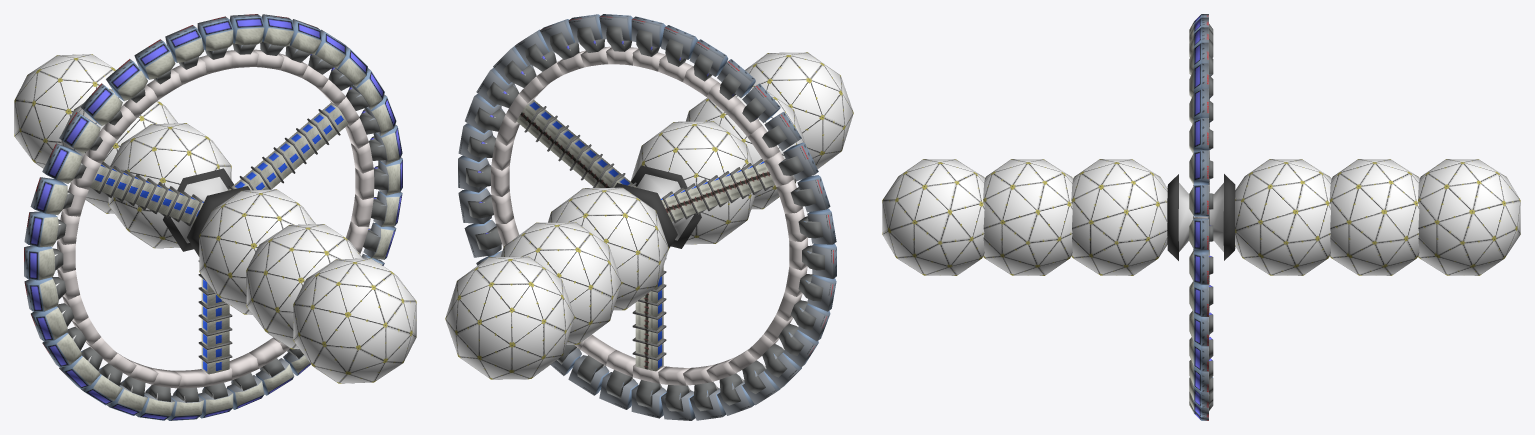
File: spacestation.fbx
The picture shows the model from 3 angles, left to right: view 1: azimuth 30°, elevation 25°; view 2: azimuth 150°, elevation 25°; view 3: azimuth 270°, elevation 25°; orthographic projection. The views are drawn at different scales.
Parts seen in each view (by area): view 1: Icosphere_004, Icosphere, Icosphere_003, Icosphere_011, Icosphere_007, Icosphere_008, StationBox_025, StationBox_015, StationBox_014, StationBox_024, StationBox_027, StationBox_012 (+67 smaller); view 2: Icosphere_007, Icosphere_011, Icosphere_008, Icosphere, Icosphere_004, Icosphere_003, Circle_001, Circle_002, StationAxis, StationBox_025, StationBox_015, StationBox_027 (+93 smaller); view 3: Icosphere_007, Icosphere_004, Icosphere, Icosphere_011, Icosphere_008, Icosphere_003, StationAxis, Circle_002, Circle_001, StationBox_022, StationBox_011, StationBox_020 (+3 smaller).
Boxes of the visible parts, left/top/right/bottom form: Icosphere_004: left=293, top=258, right=416, bottom=383; Icosphere: left=199, top=189, right=315, bottom=314; Icosphere_003: left=246, top=224, right=362, bottom=349; Icosphere_011: left=108, top=123, right=231, bottom=248; Icosphere_007: left=14, top=54, right=115, bottom=168; Icosphere_008: left=61, top=89, right=177, bottom=213; StationBox_025: left=30, top=177, right=67, bottom=214; StationBox_015: left=134, top=39, right=175, bottom=79; StationBox_014: left=106, top=59, right=147, bottom=101; StationBox_024: left=42, top=143, right=81, bottom=183; StationBox_027: left=24, top=211, right=58, bottom=247; StationBox_012: left=80, top=83, right=122, bottom=125; Icosphere_007: left=445, top=256, right=574, bottom=379; Icosphere_011: left=548, top=187, right=668, bottom=310; Icosphere_008: left=501, top=222, right=621, bottom=344; Icosphere: left=630, top=121, right=755, bottom=244; Icosphere_004: left=745, top=52, right=853, bottom=168; Icosphere_003: left=686, top=87, right=805, bottom=209; Circle_001: left=614, top=183, right=677, bottom=248; Circle_002: left=631, top=165, right=701, bottom=248; StationAxis: left=637, top=174, right=693, bottom=240; StationBox_025: left=797, top=175, right=830, bottom=212; StationBox_015: left=689, top=39, right=728, bottom=76; StationBox_027: left=807, top=208, right=836, bottom=244; Icosphere_007: left=1418, top=159, right=1520, bottom=275; Icosphere_004: left=882, top=159, right=984, bottom=275; Icosphere: left=1071, top=159, right=1167, bottom=275; Icosphere_011: left=1235, top=159, right=1331, bottom=275; Icosphere_008: left=1329, top=159, right=1419, bottom=275; Icosphere_003: left=983, top=159, right=1073, bottom=275; StationAxis: left=1178, top=183, right=1223, bottom=251; Circle_002: left=1167, top=174, right=1178, bottom=260; Circle_001: left=1223, top=174, right=1235, bottom=260; StationBox_022: left=1189, top=150, right=1208, bottom=185; StationBox_011: left=1189, top=249, right=1208, bottom=284; StationBox_020: left=1189, top=118, right=1208, bottom=153.
Bounding box in the file's own units: 130 × 130 × 204.
8 materials, 4 textured.
